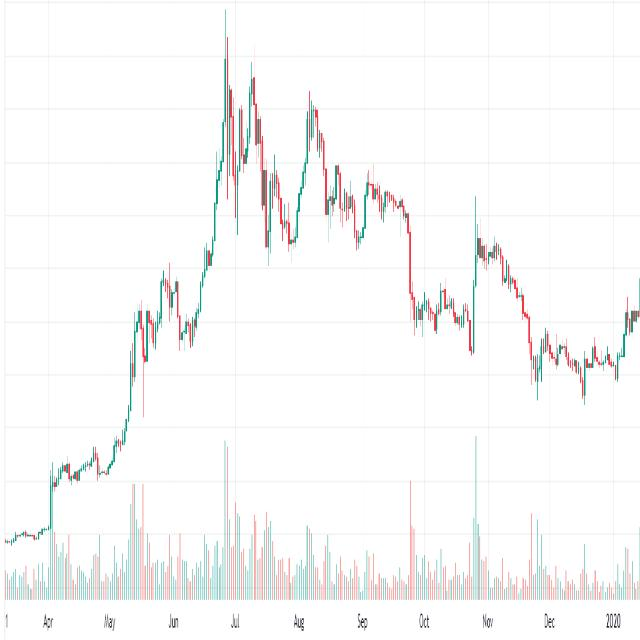Double-Top: (158, 254, 182, 327)
